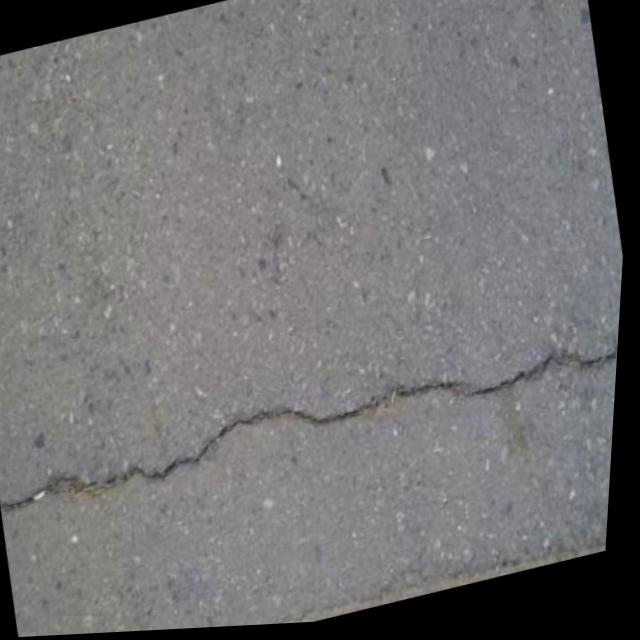Crack: (0, 291, 625, 566)
